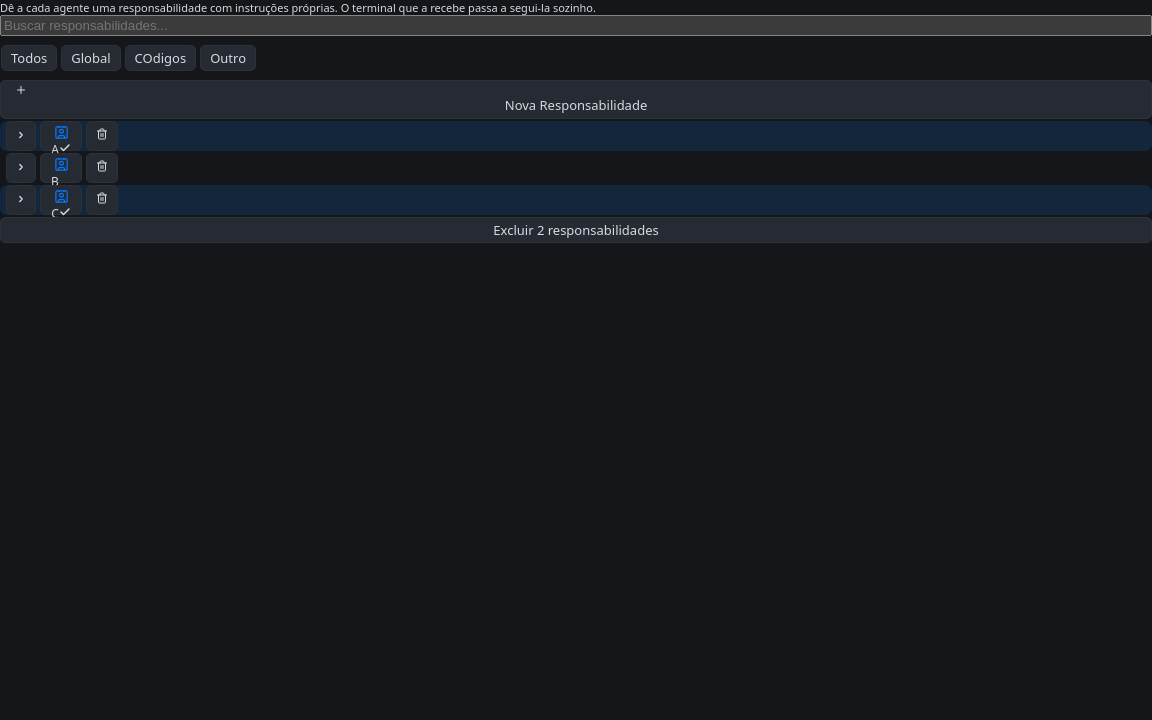
it: seleção: clique, Ctrl, Shift e teclado; exclui várias com confirmação
Earlier steps of the test are not shown.
Step 1. Click the button "B" → x=61, y=168, box 40,152 -> 82,182
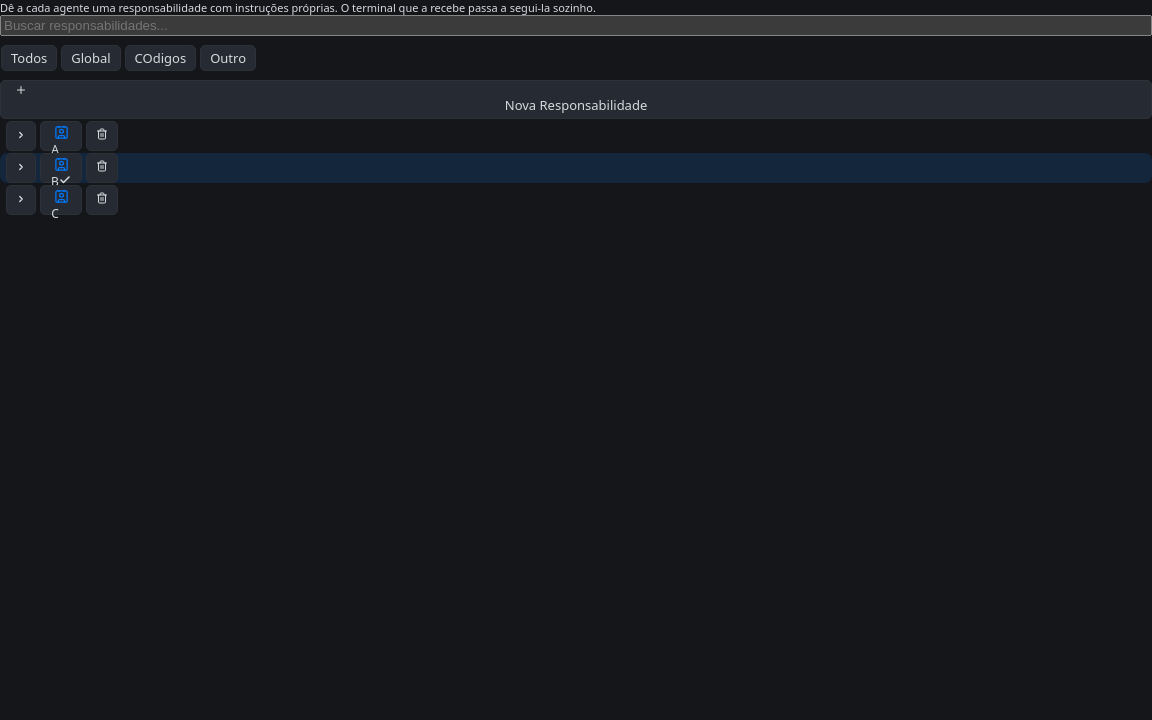
Step 2. Click the button "C" → x=61, y=200, box 40,184 -> 82,214
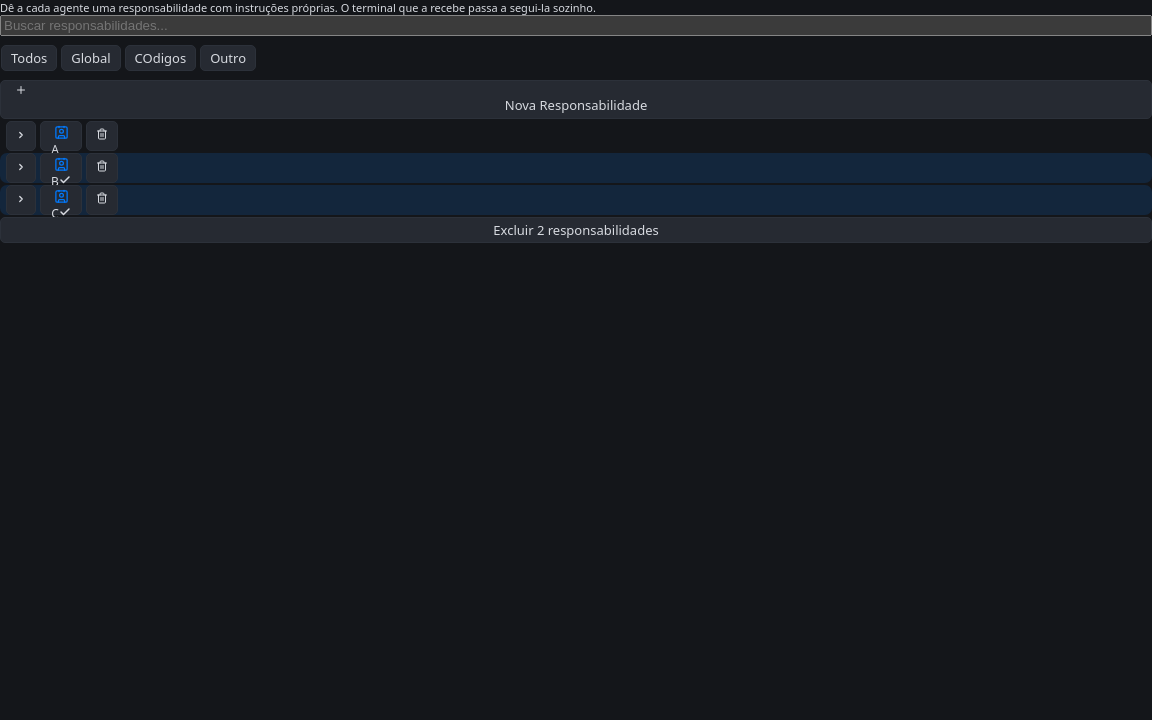
Step 3. Click the button "Excluir 2 responsabilidades" → x=576, y=230, box 0,216 -> 1151,243
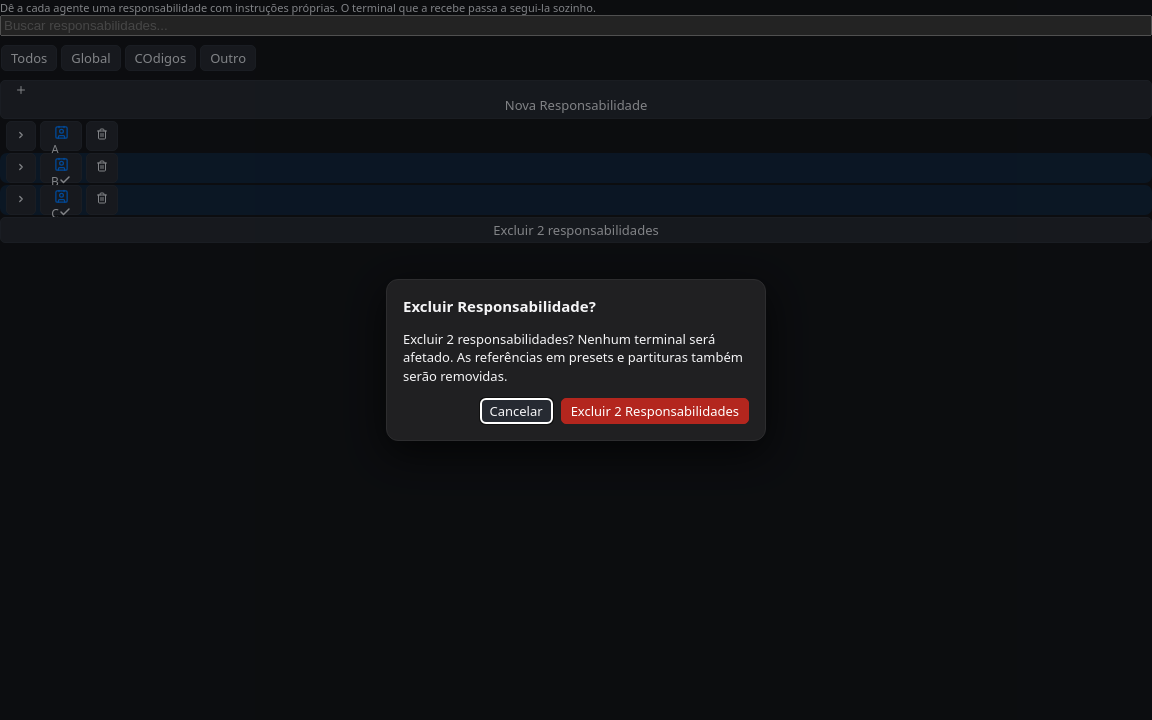
Step 4. Click the button with class "danger" → x=655, y=411, box 561,398 -> 749,424
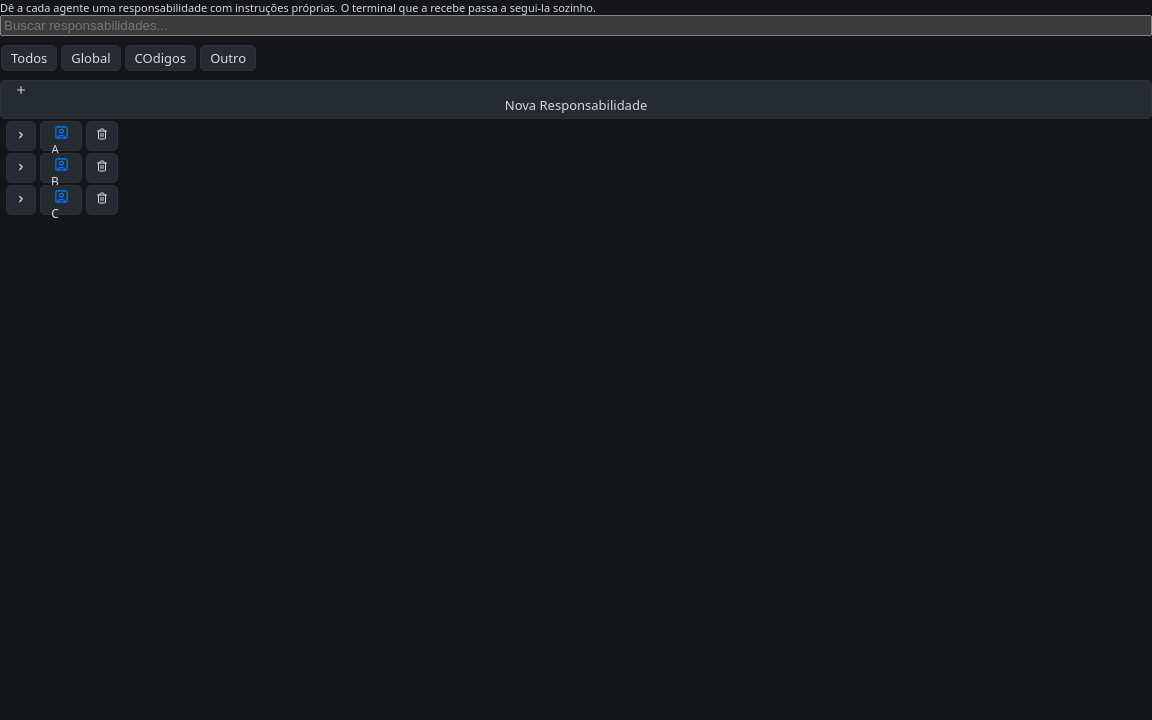
Step 5. Press Space in the button "A", box 40,120 -> 82,150
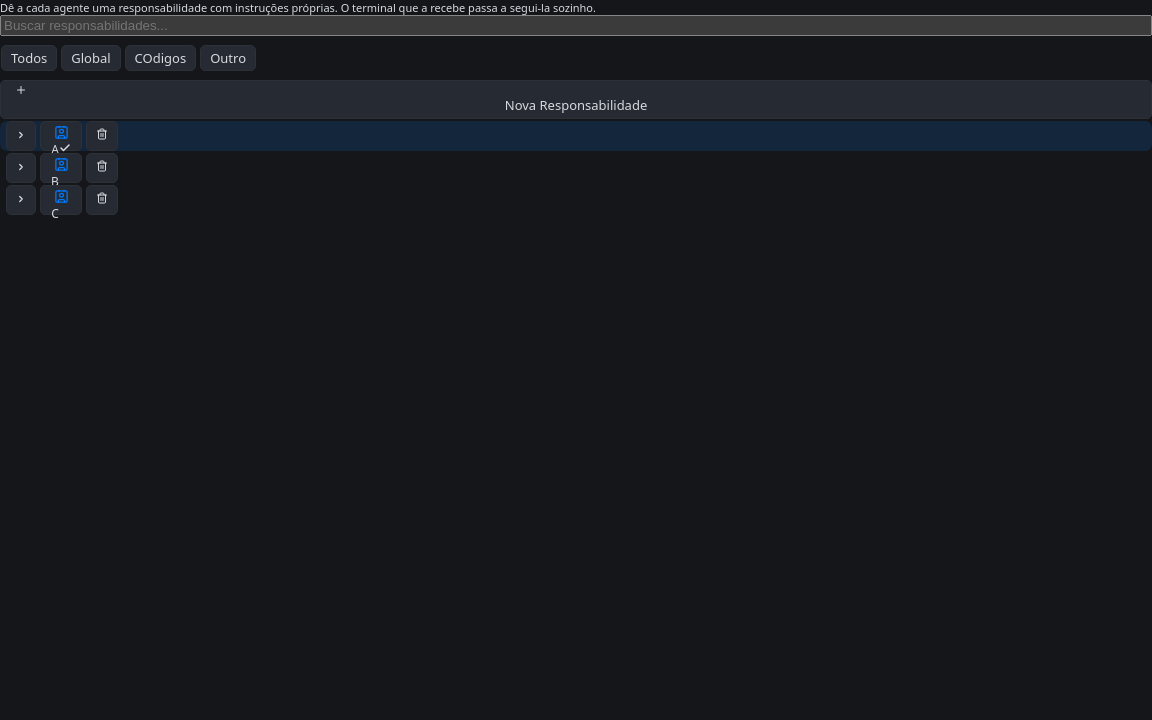
Step 6. Press Delete in the button "A", box 40,120 -> 82,150
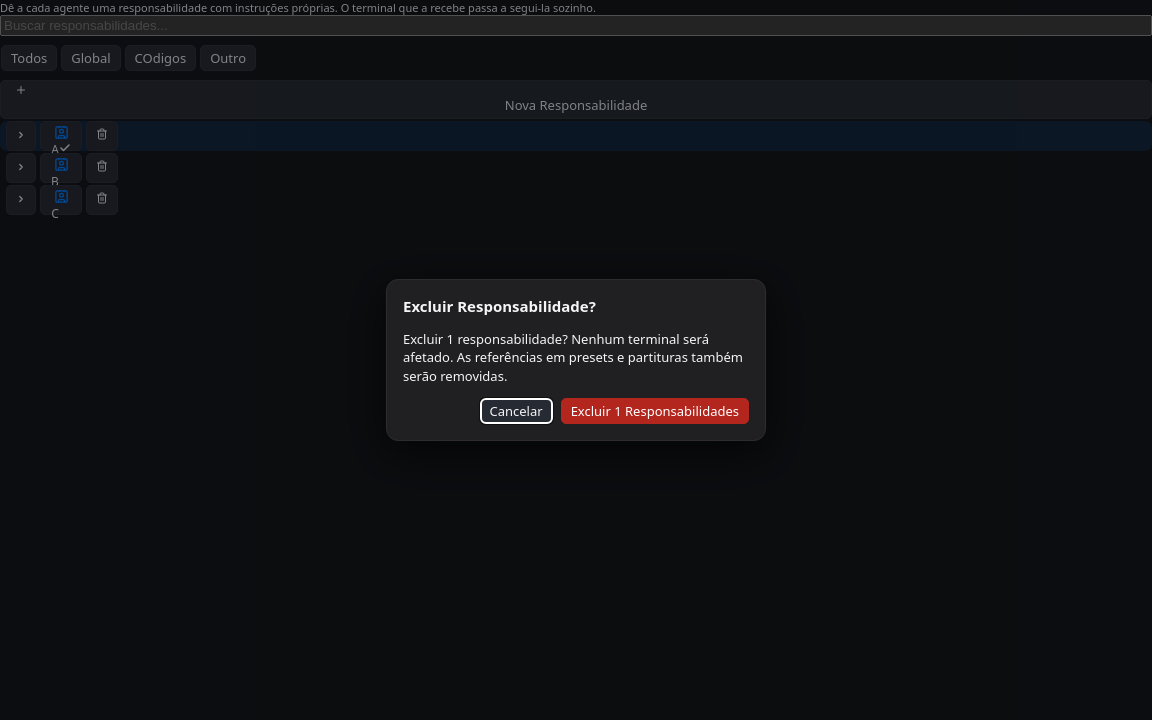
Check: the dialog with class "settings-confirm" is shown, box 386,279 -> 766,441
